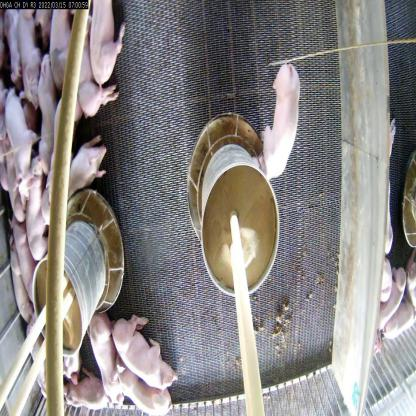Pig: (254, 57, 302, 182), (41, 140, 107, 226), (107, 314, 170, 389), (68, 25, 115, 118), (0, 82, 34, 185), (108, 365, 176, 416), (85, 307, 117, 410), (13, 4, 43, 104), (4, 215, 37, 302), (34, 59, 59, 171), (88, 0, 129, 67), (20, 160, 48, 257), (61, 375, 108, 415)
